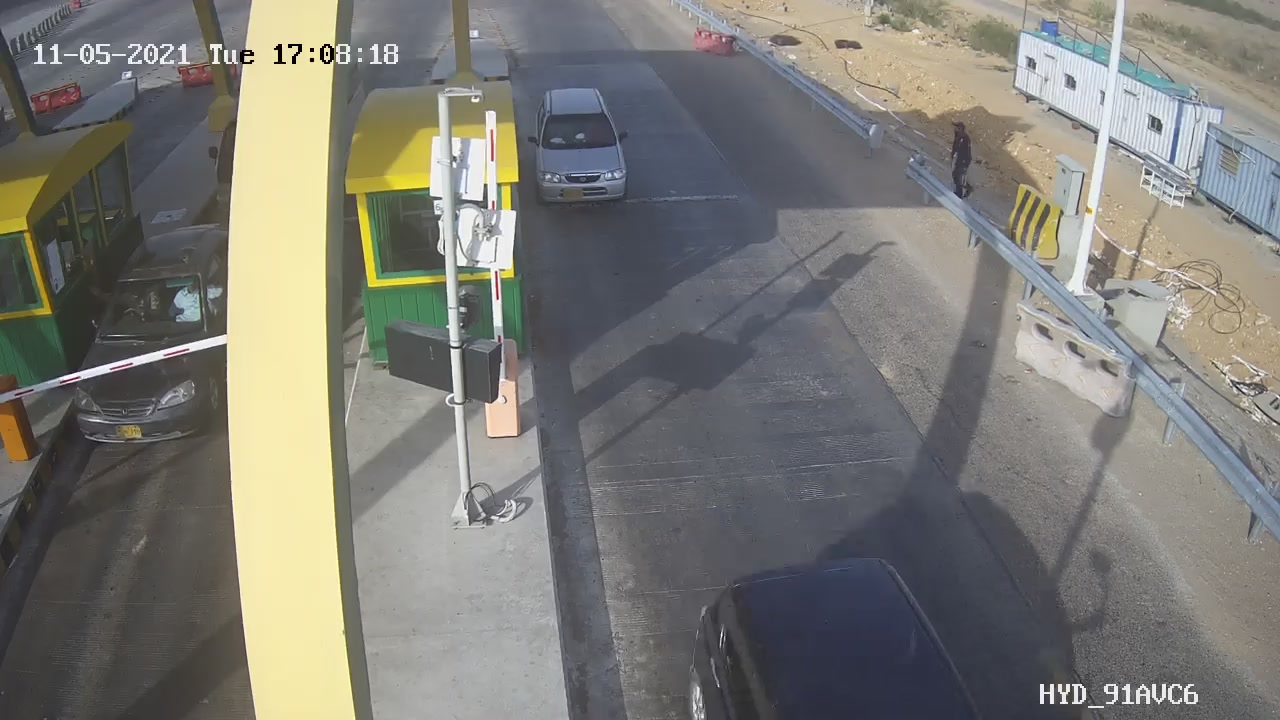F1: (518, 74, 646, 217)
